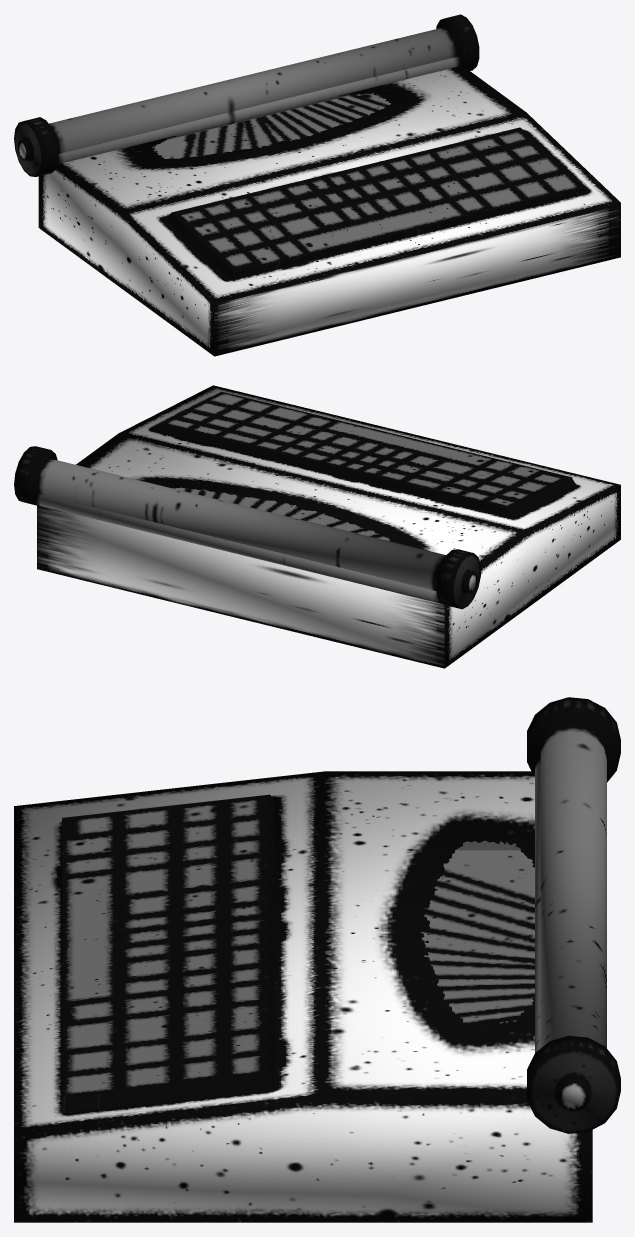
File: typewritter.obj
3 renders of one model, top to bottom at view 1: azimuth 30°, elevation 25°; view 2: azimuth 150°, elevation 25°; view 3: azimuth 270°, elevation 25°, orthographic. The views are drawn at different scales.
Visible parts, largest first — view 1: Cube; view 2: Cube; view 3: Cube.
Part boxes in pixels (box(x1,y1,x2,y2)): Cube: box(14, 14, 620, 356); Cube: box(14, 385, 620, 668); Cube: box(14, 697, 620, 1222).
Bounding box in the file's own units: 2.21 × 0.5312 × 1.57.
